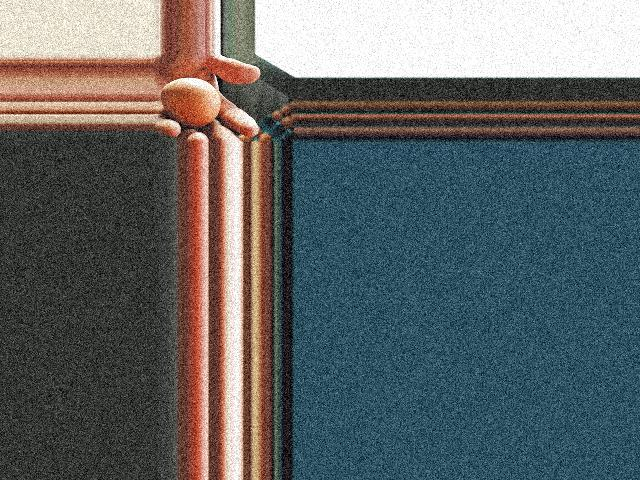egg: (159, 78, 220, 128)
